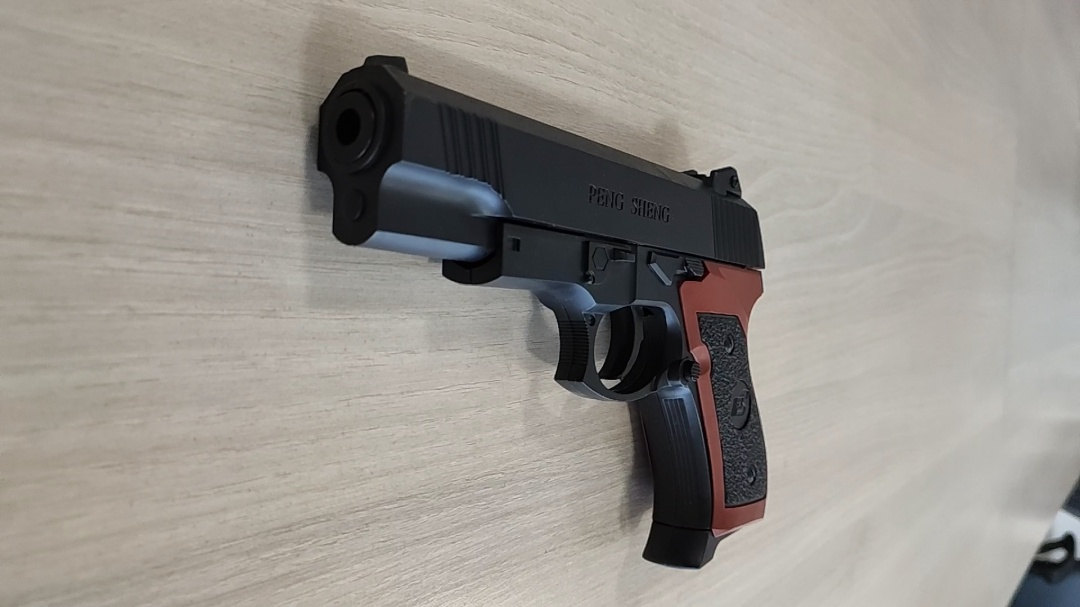gun: (310, 52, 774, 571)
